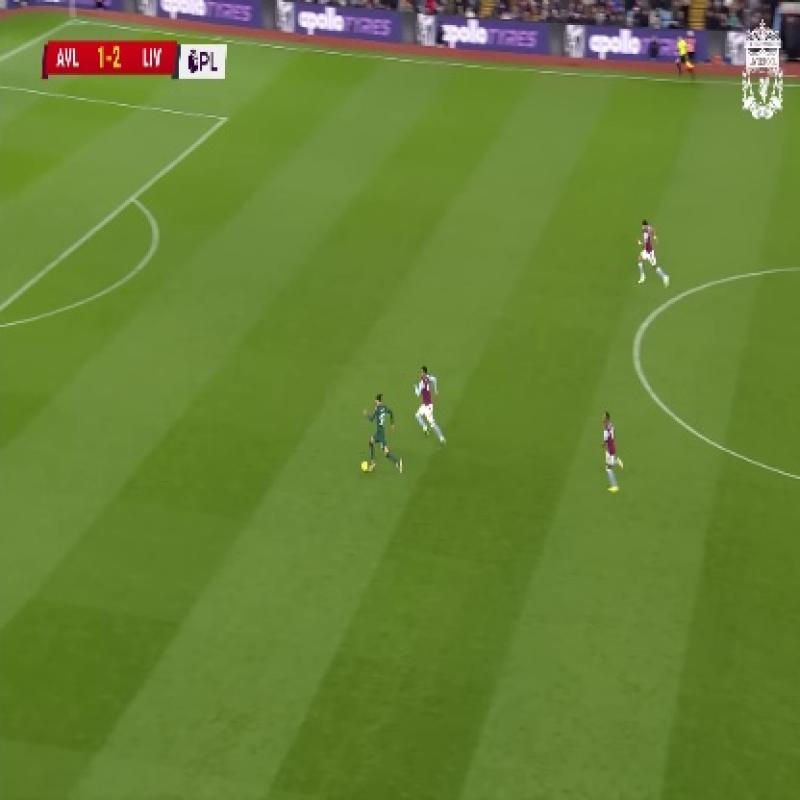1: (62, 10, 86, 29)
10: (122, 184, 140, 209)
9: (214, 104, 235, 131)
c: (615, 320, 662, 370)
